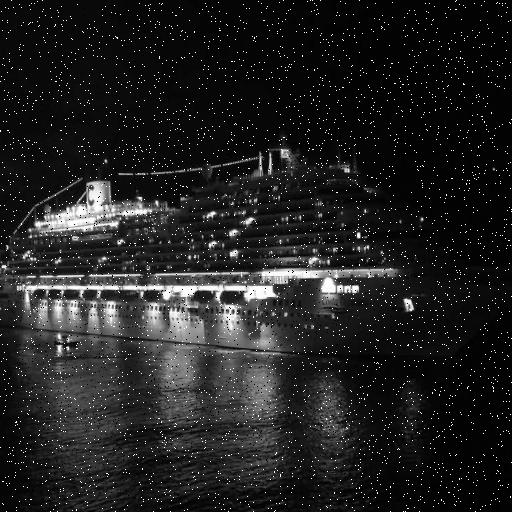cruises: (1, 127, 431, 365)
